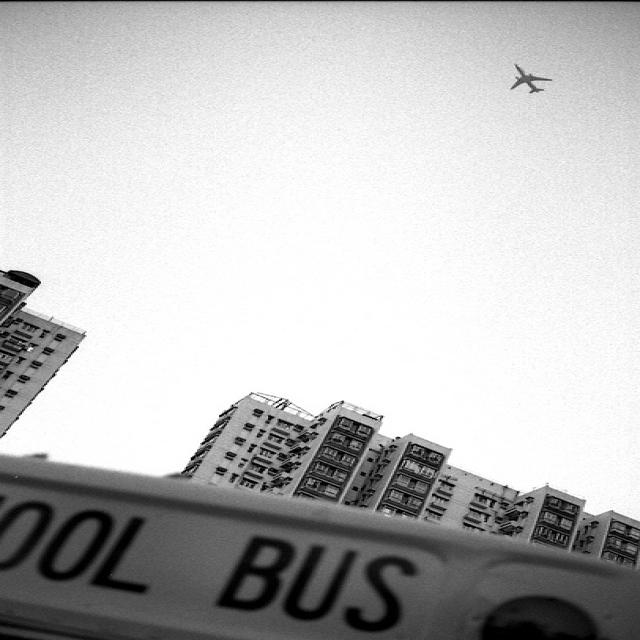Vehicle: (6, 452, 640, 638)
